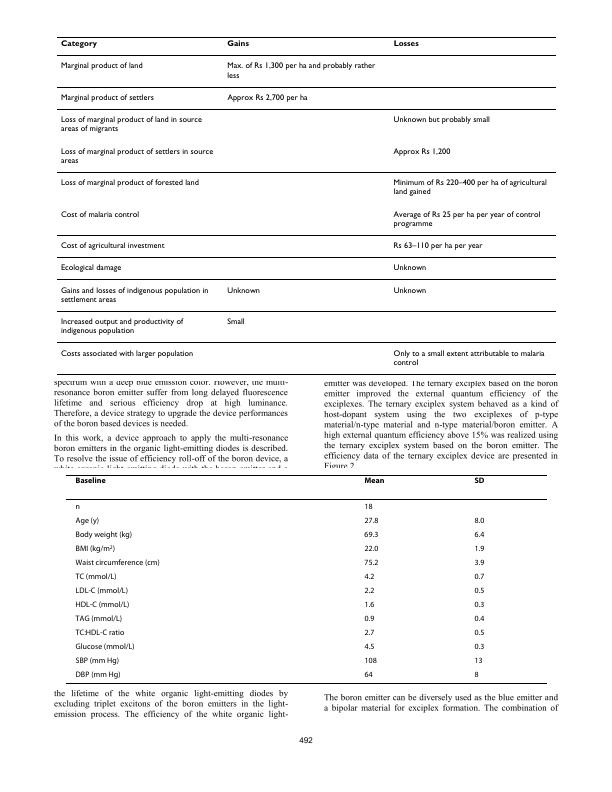borderless: (56, 35, 556, 374), (65, 473, 547, 683)
cell: (59, 147, 214, 166), (392, 178, 547, 197), (392, 349, 545, 368), (226, 62, 376, 81), (59, 286, 209, 305), (392, 210, 541, 229), (59, 115, 202, 134), (59, 317, 184, 336), (59, 178, 199, 188), (59, 349, 194, 359), (59, 241, 165, 251), (392, 115, 490, 125), (59, 93, 154, 103), (392, 241, 483, 251), (75, 558, 161, 568), (226, 93, 308, 103), (59, 210, 140, 220), (59, 62, 143, 71), (75, 642, 136, 652), (392, 147, 451, 157), (75, 530, 133, 540), (59, 264, 122, 273), (75, 600, 130, 610), (75, 586, 129, 596), (75, 628, 125, 638), (75, 614, 123, 624), (75, 670, 121, 680), (75, 656, 120, 666), (75, 572, 117, 582), (75, 544, 116, 554), (392, 286, 427, 296), (59, 40, 97, 49), (226, 286, 260, 296), (392, 264, 427, 273), (75, 476, 107, 484), (75, 516, 100, 526), (392, 40, 419, 49), (226, 40, 249, 49), (226, 317, 245, 327), (363, 476, 385, 484), (363, 516, 379, 526), (363, 530, 379, 540), (363, 544, 379, 554), (363, 558, 379, 568), (363, 656, 378, 666), (473, 516, 485, 526), (473, 530, 485, 540), (473, 544, 485, 554), (473, 558, 485, 568), (363, 572, 375, 582), (473, 572, 485, 582), (363, 586, 375, 596), (473, 586, 485, 596), (363, 600, 375, 610), (473, 600, 485, 610), (363, 614, 375, 624), (473, 614, 485, 624), (363, 628, 375, 638), (473, 628, 485, 638), (363, 642, 375, 652), (363, 502, 374, 512), (474, 642, 485, 652), (473, 656, 484, 666), (363, 670, 374, 680), (473, 476, 485, 484), (473, 670, 480, 680), (75, 502, 81, 512)
